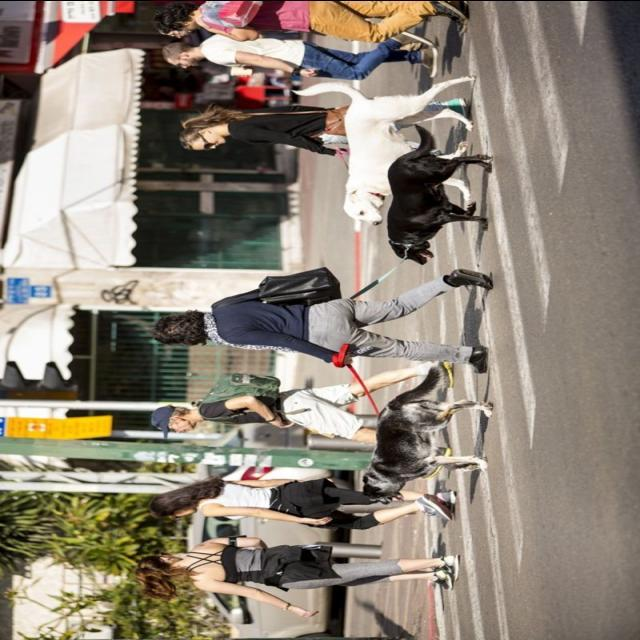Dogs: (292, 68, 478, 225), (360, 359, 498, 504), (384, 120, 494, 262)
